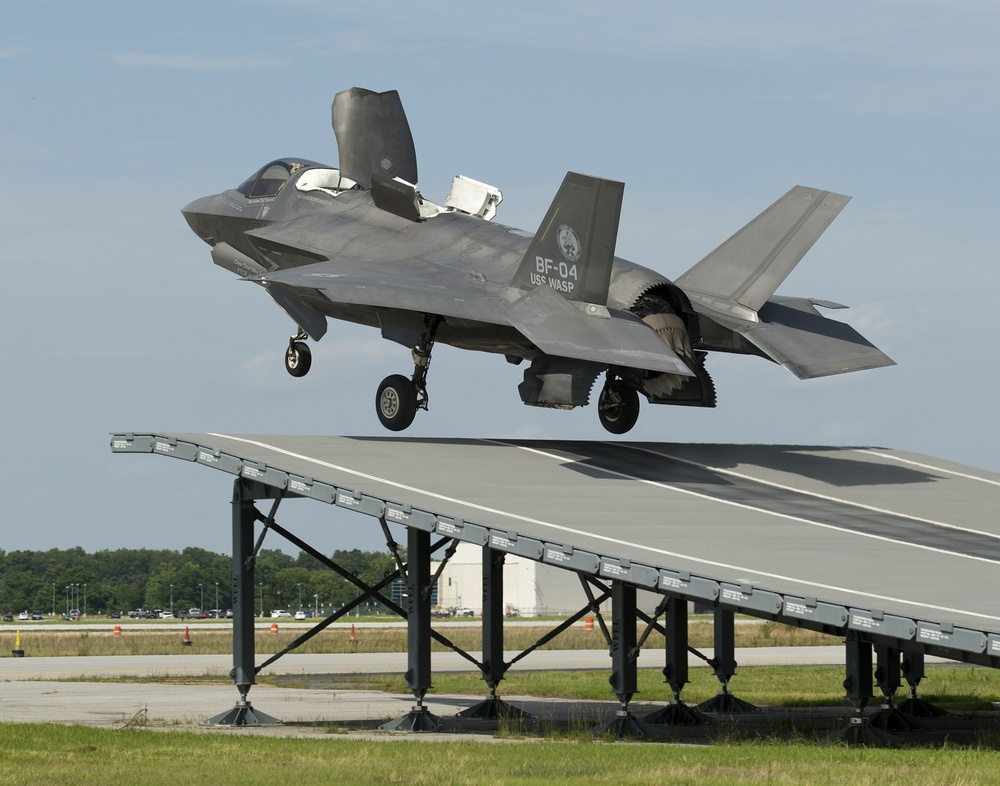F35: (176, 86, 902, 438)
